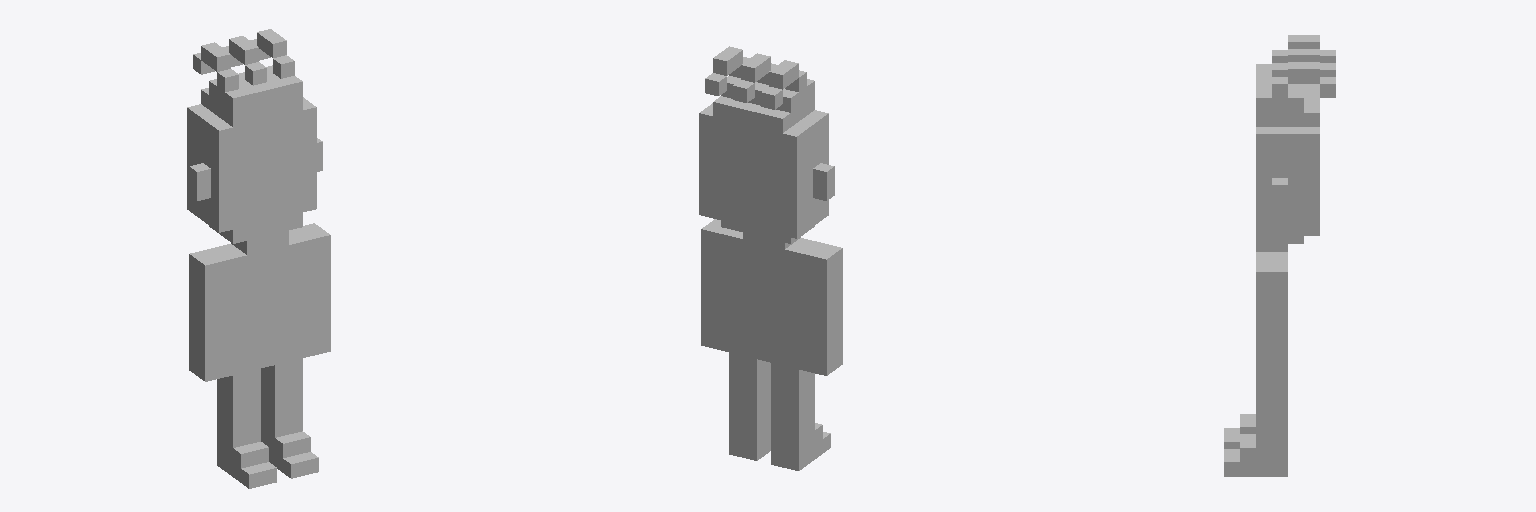
Rendered from male.obj.
3 renders of one model, left to right at view 1: azimuth 30°, elevation 25°; view 2: azimuth 150°, elevation 25°; view 3: azimuth 270°, elevation 25°, orthographic.
Parts seen in each view (by area): view 1: right_Foot; view 2: right_Foot; view 3: right_Foot.
Boxes of the visible parts, x1,y1,x2,y2 form: right_Foot: [187, 29, 330, 488]; right_Foot: [699, 46, 842, 470]; right_Foot: [1224, 35, 1335, 476].
Bounding box in the file's own units: 9 × 28 × 7.